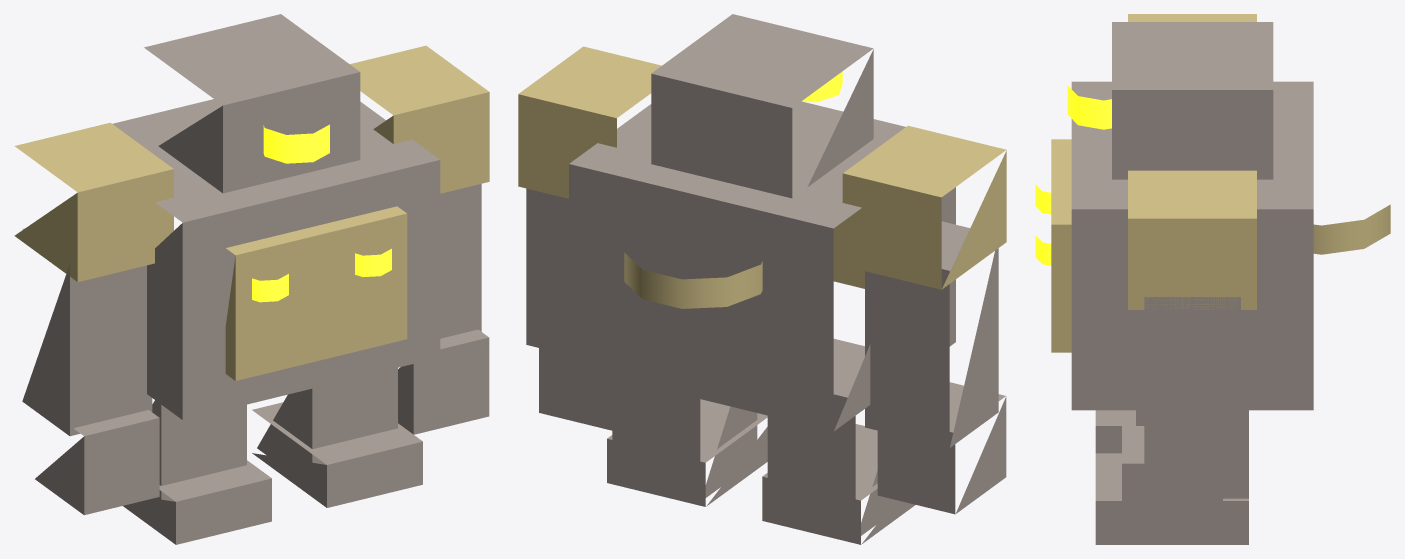
The model's file is golem_mechanical.glb.
The picture shows the model from 3 angles, left to right: view 1: azimuth 30°, elevation 25°; view 2: azimuth 150°, elevation 25°; view 3: azimuth 270°, elevation 25°; orthographic projection. The views are drawn at different scales.
Visible parts, largest first — view 1: MechanicalArmor, MechanicalGears, MechanicalGlow; view 2: MechanicalArmor, MechanicalGears; view 3: MechanicalArmor, MechanicalGears, MechanicalGlow.
Boxes of the visible parts, x1,y1,x2,y2 form: MechanicalArmor: (22, 14, 489, 544); MechanicalGears: (14, 45, 489, 380); MechanicalGlow: (252, 124, 391, 302); MechanicalArmor: (526, 14, 1006, 544); MechanicalGears: (518, 46, 1006, 308); MechanicalArmor: (1071, 22, 1313, 544); MechanicalGears: (1051, 14, 1390, 352); MechanicalGlow: (1035, 85, 1111, 265).
Bounding box in the file's own units: 1.2 × 1.17 × 0.8812.
